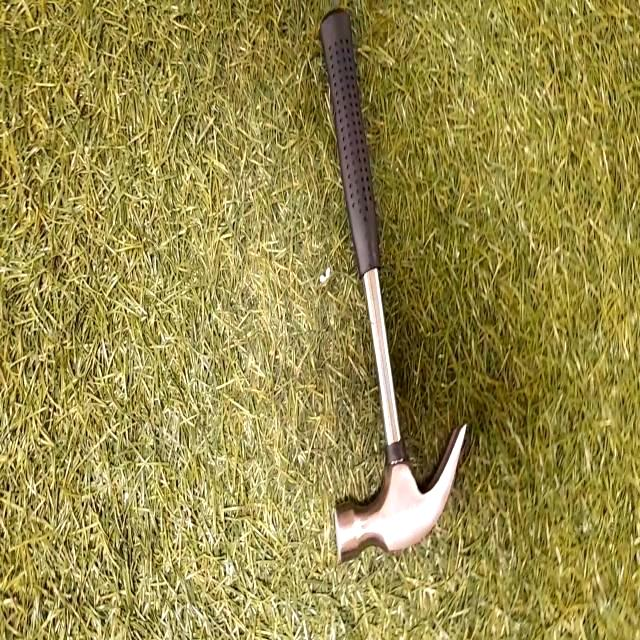hammer: (266, 1, 482, 567)
